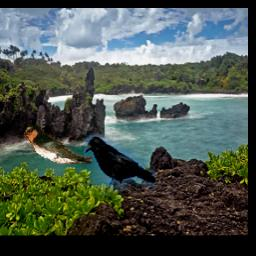Crow: (84, 135, 155, 196)
Swallow: (24, 124, 92, 164)
